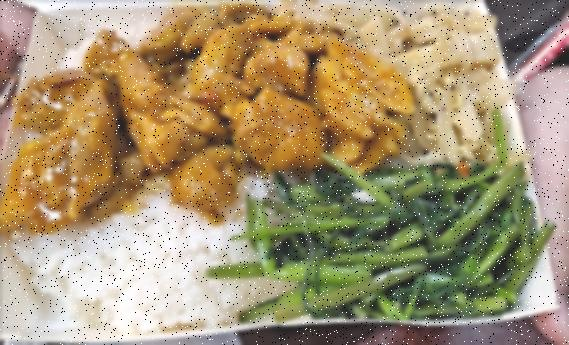big grilled chicken leg: (0, 0, 569, 341)
big herbal chicken leg: (40, 182, 276, 330)
braised fish fillet: (295, 172, 546, 310), (389, 0, 512, 165)
braised pork: (12, 0, 416, 230)
